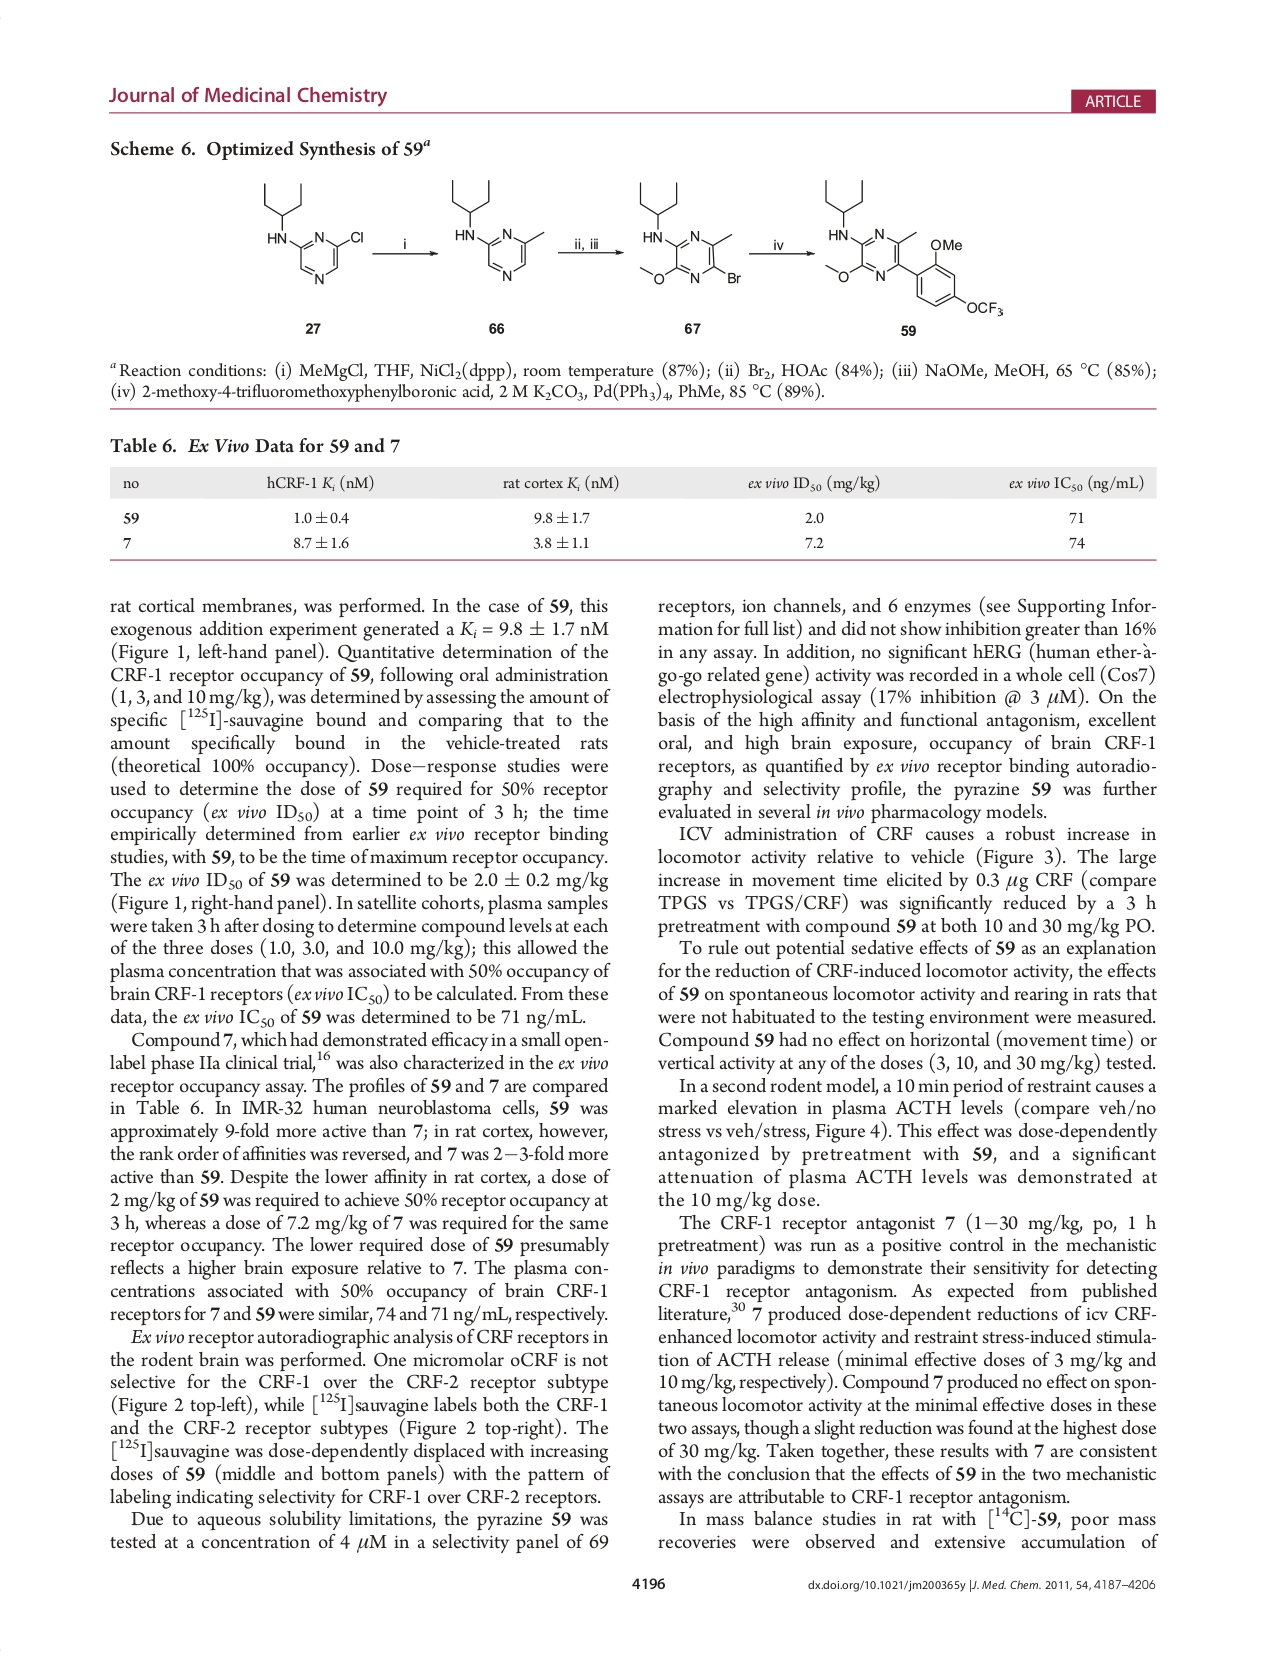exist_molecular: (817, 176, 1007, 318), (258, 180, 367, 287), (636, 177, 741, 287), (449, 173, 549, 285)
